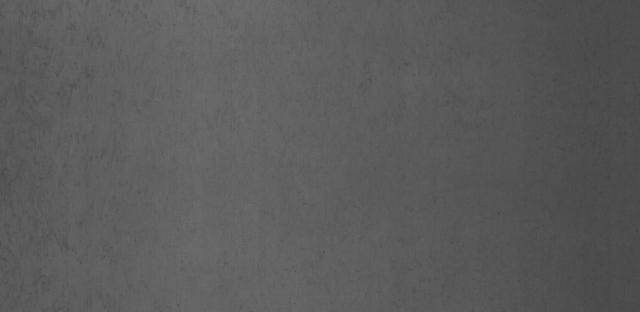silk_spot: (0, 21, 129, 257)
